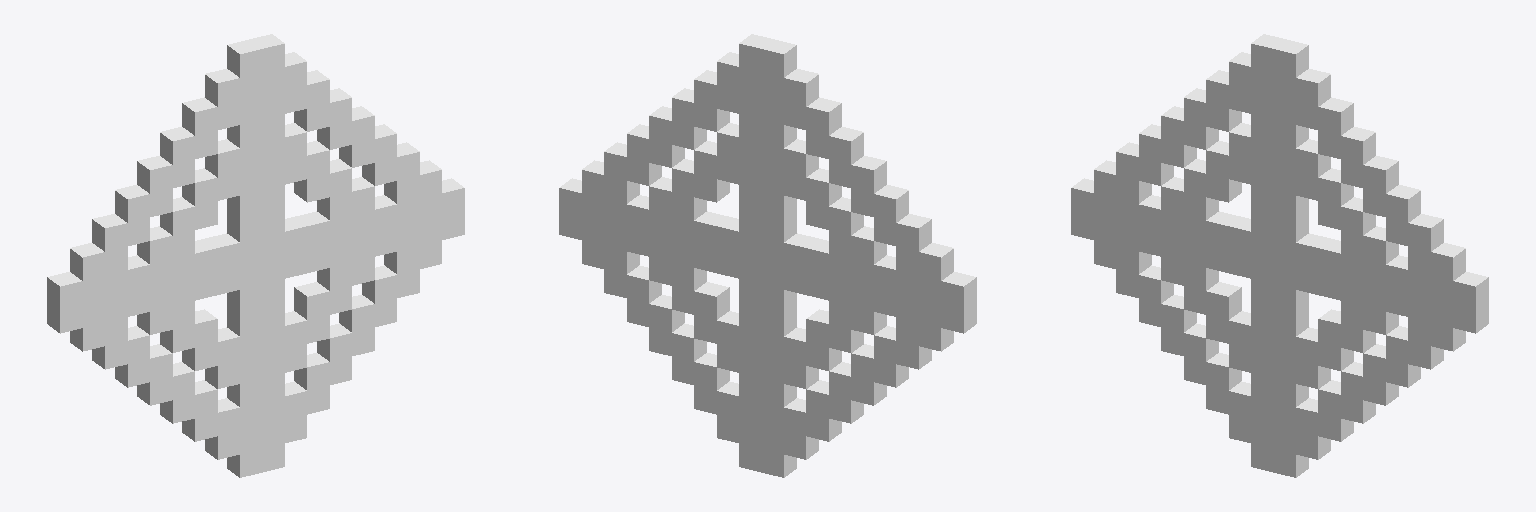
Rendered from Projectile_1.obj.
The picture shows the model from 3 angles: view 1: azimuth 30°, elevation 25°; view 2: azimuth 150°, elevation 25°; view 3: azimuth 330°, elevation 25°; orthographic projection.
Visible parts, largest first — view 1: object 1; view 2: object 1; view 3: object 1.
Boxes of the visible parts, <box> form: object 1: <box>47,34,464,477</box>; object 1: <box>559,34,976,477</box>; object 1: <box>1071,34,1488,477</box>.
Size of the model in its own units: 1.8 by 1.8 by 0.1.